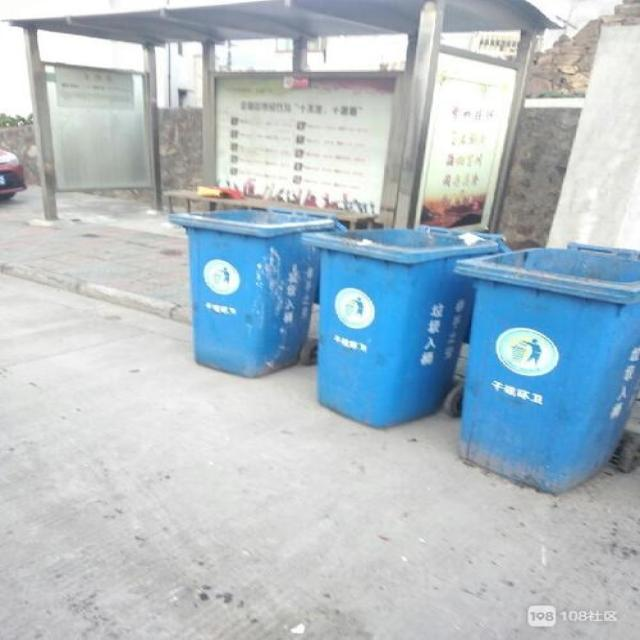garbage_bin: (452, 241, 639, 494), (299, 226, 496, 429), (168, 209, 332, 377)
